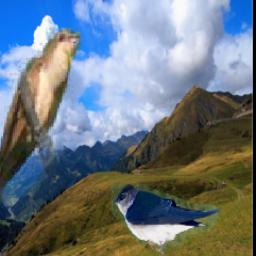Cuckoo: (0, 29, 81, 209)
Swallow: (110, 184, 220, 256)
